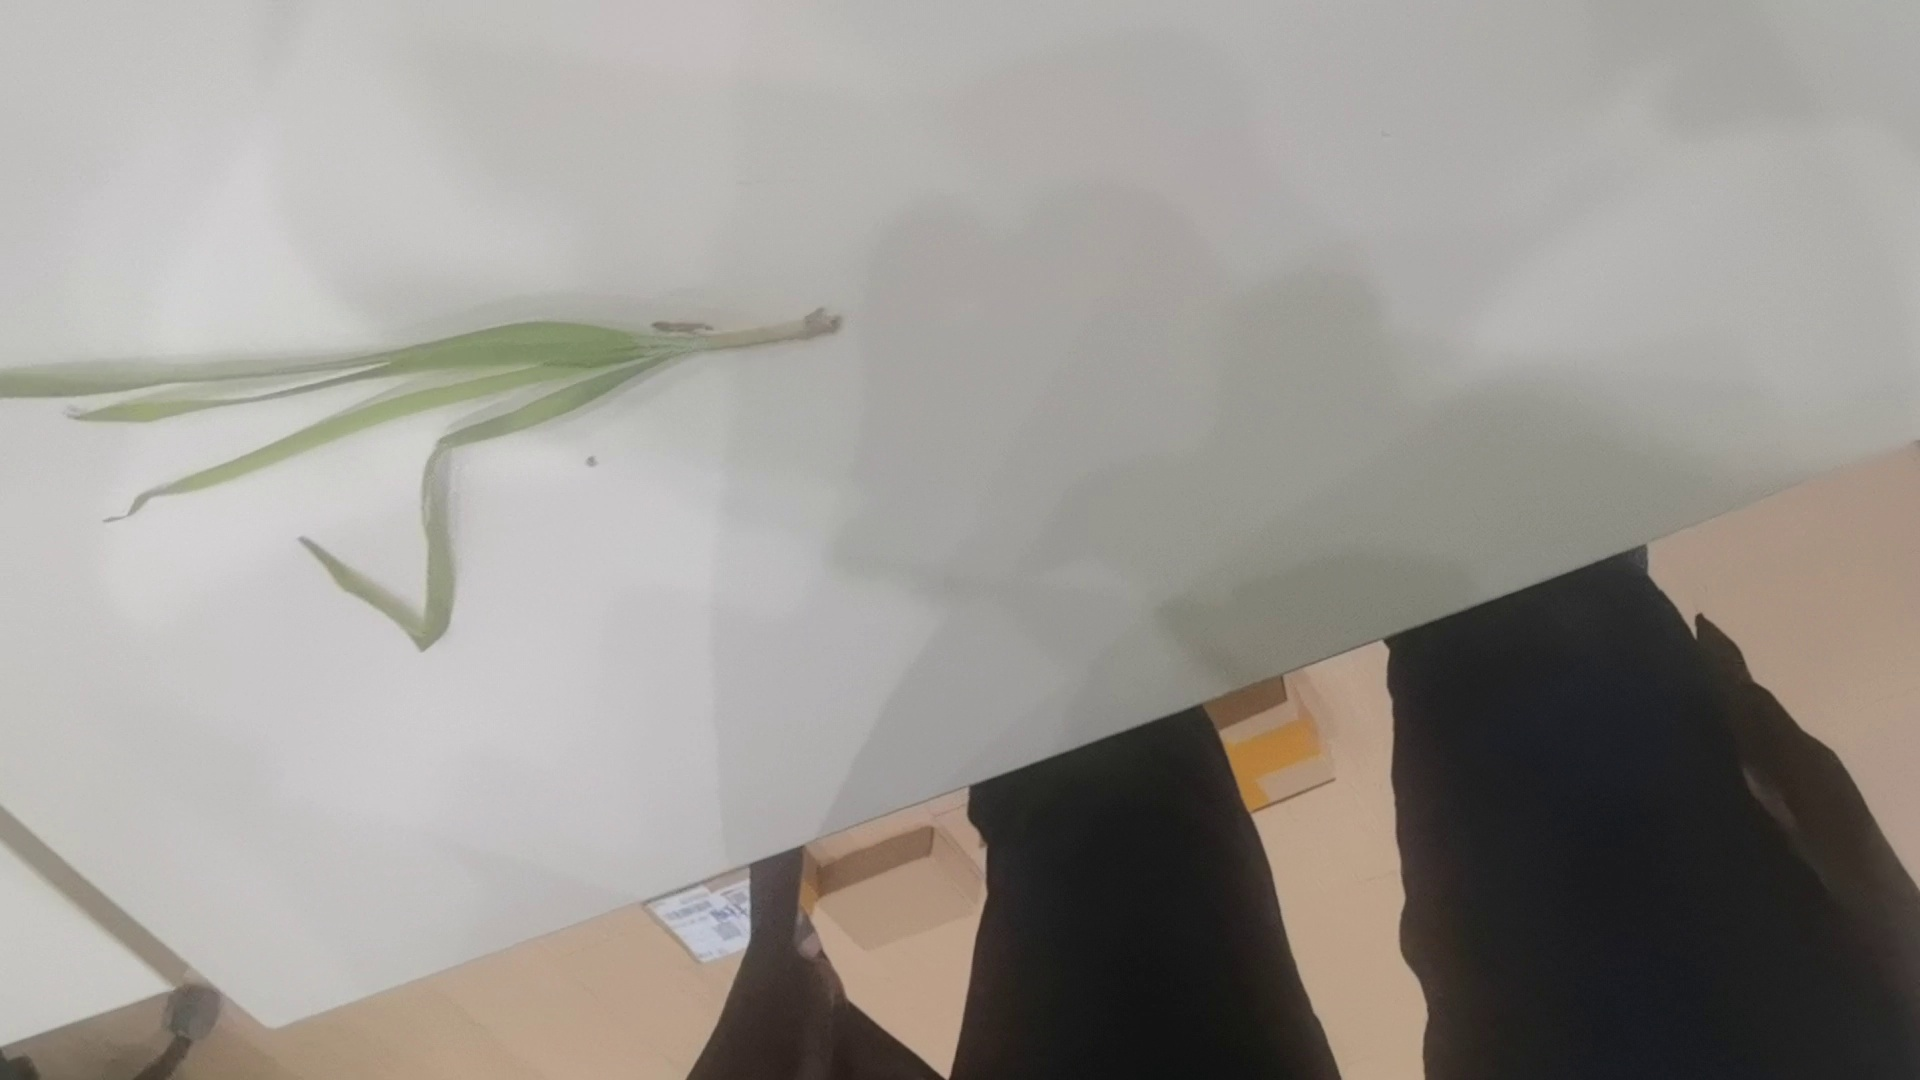chives: (4, 309, 870, 648)
